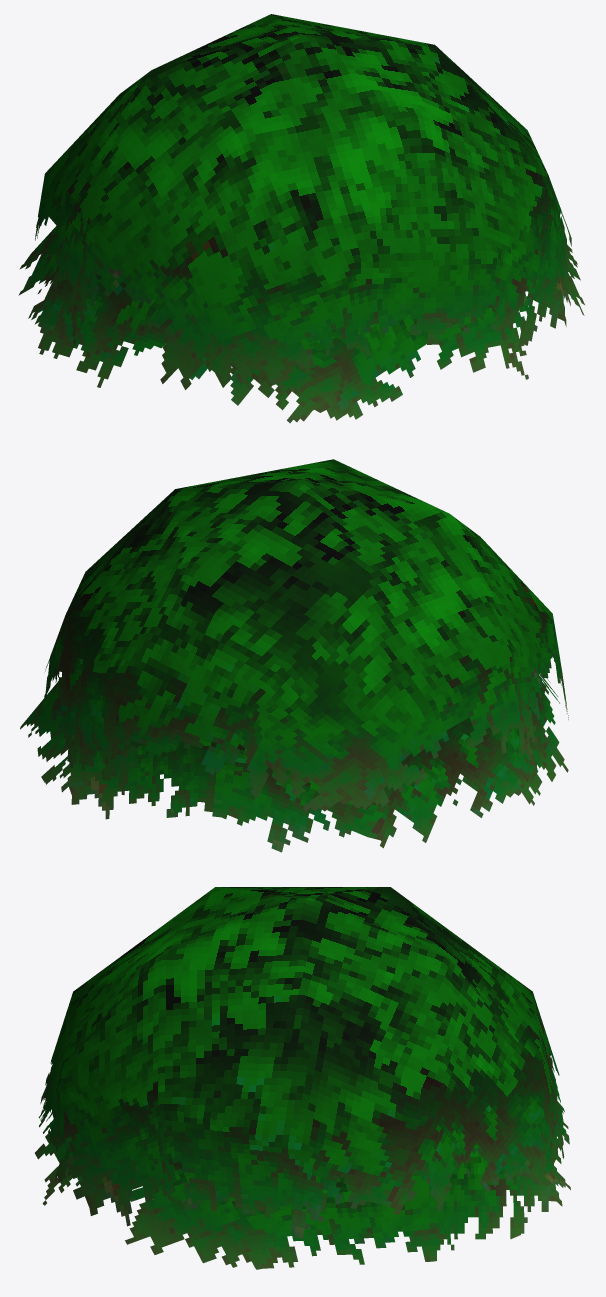
Rendered from Bush_00.glb.
3 renders of one model, top to bottom at view 1: azimuth 30°, elevation 25°; view 2: azimuth 150°, elevation 25°; view 3: azimuth 270°, elevation 25°, orthographic. The views are drawn at different scales.
Visible parts, largest first — view 1: Bush_00; view 2: Bush_00; view 3: Bush_00.
Boxes of the visible parts, x1,y1,x2,y2 form: Bush_00: [18, 14, 584, 423]; Bush_00: [20, 459, 568, 852]; Bush_00: [35, 887, 570, 1269].
Size of the model in its own units: 2 by 1 by 2.
Materials: 1 (1 with a texture image).
